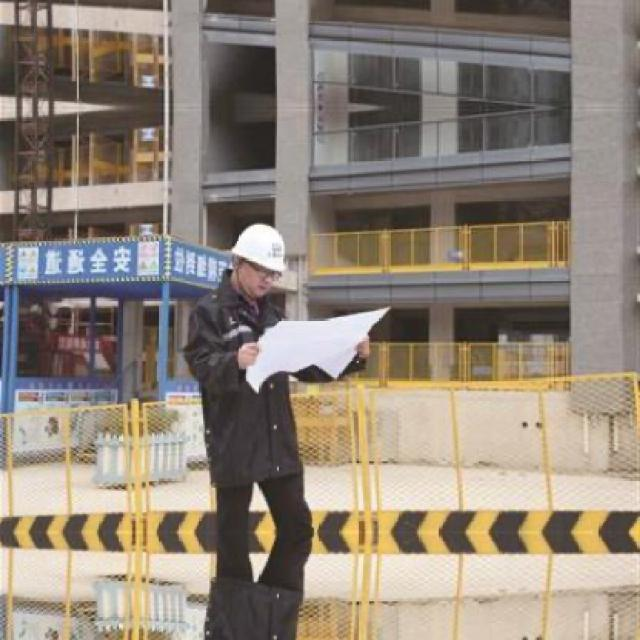con casco: (208, 208, 304, 306)
